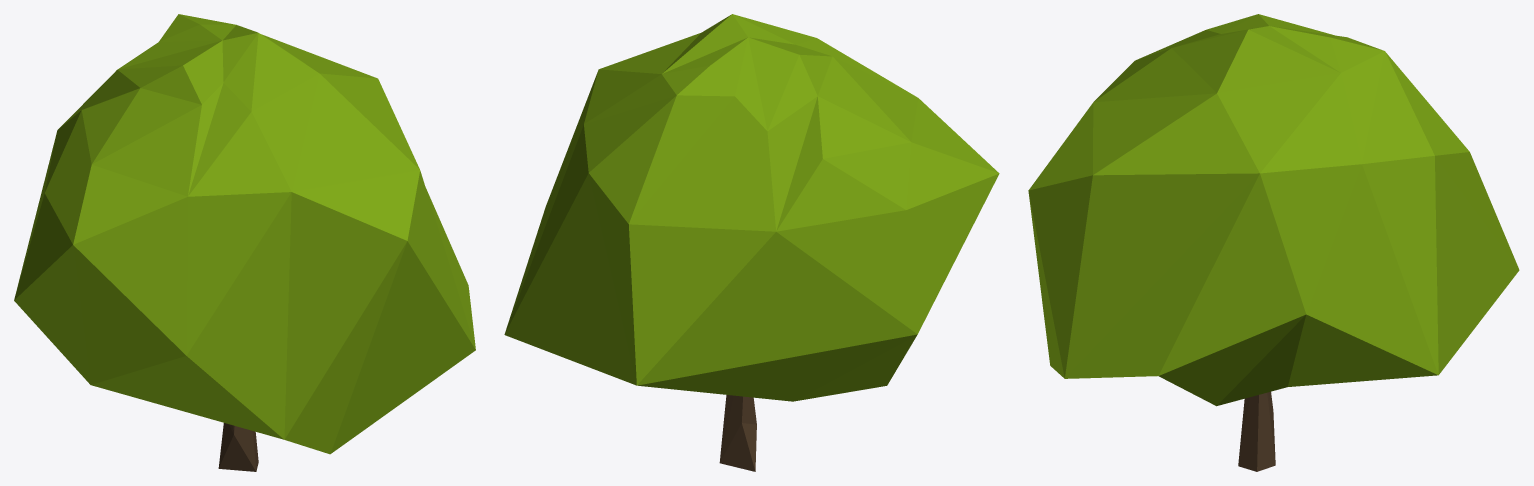
The model's file is tree_four.fbx.
3 renders of one model, left to right at view 1: azimuth 30°, elevation 25°; view 2: azimuth 150°, elevation 25°; view 3: azimuth 270°, elevation 25°, orthographic. The views are drawn at different scales.
Visible parts, largest first — view 1: leafs, wood; view 2: leafs, wood; view 3: leafs, wood.
Boxes of the visible parts, left/top/right/bottom form: leafs: left=14, top=14, right=475, bottom=454; wood: left=218, top=423, right=258, bottom=471; leafs: left=504, top=14, right=999, bottom=401; wood: left=719, top=395, right=756, bottom=471; leafs: left=1028, top=14, right=1519, bottom=406; wood: left=1238, top=391, right=1275, bottom=471.
Bounding box in the file's own units: 565 × 603 × 609.
